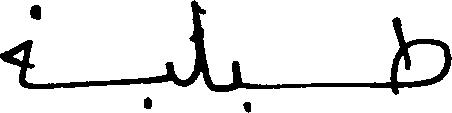X: (389, 12, 451, 99), (0, 5, 30, 93), (193, 0, 204, 112), (231, 56, 241, 95), (166, 57, 173, 86)
